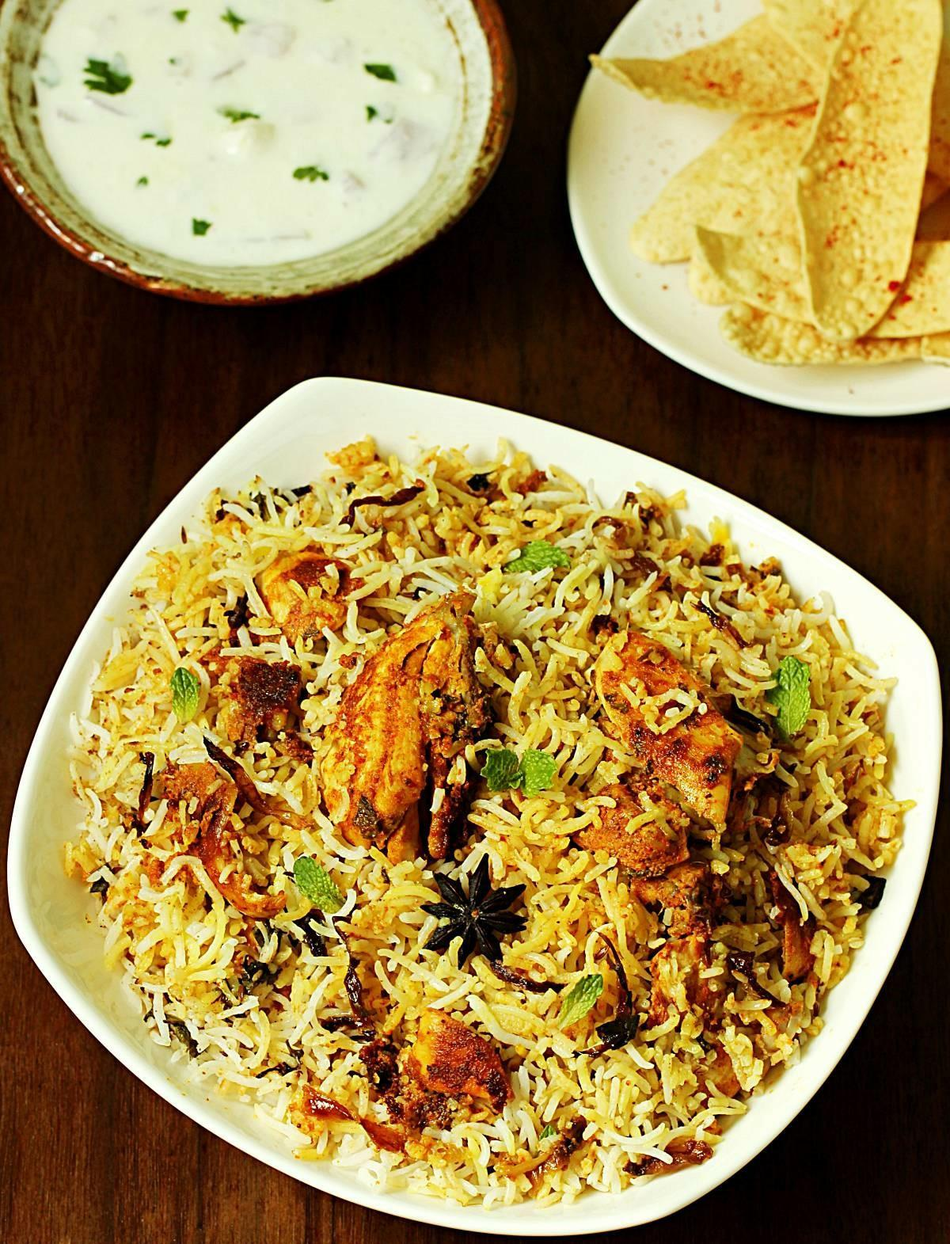Biryani: (70, 433, 886, 1198)
